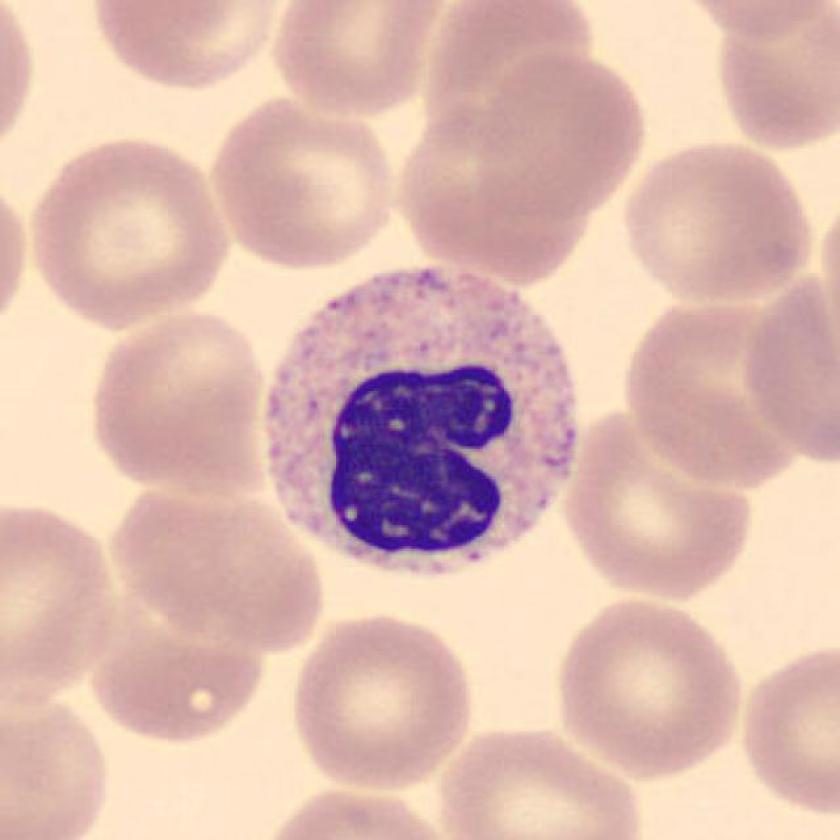neutrophil: (265, 268, 576, 574)
